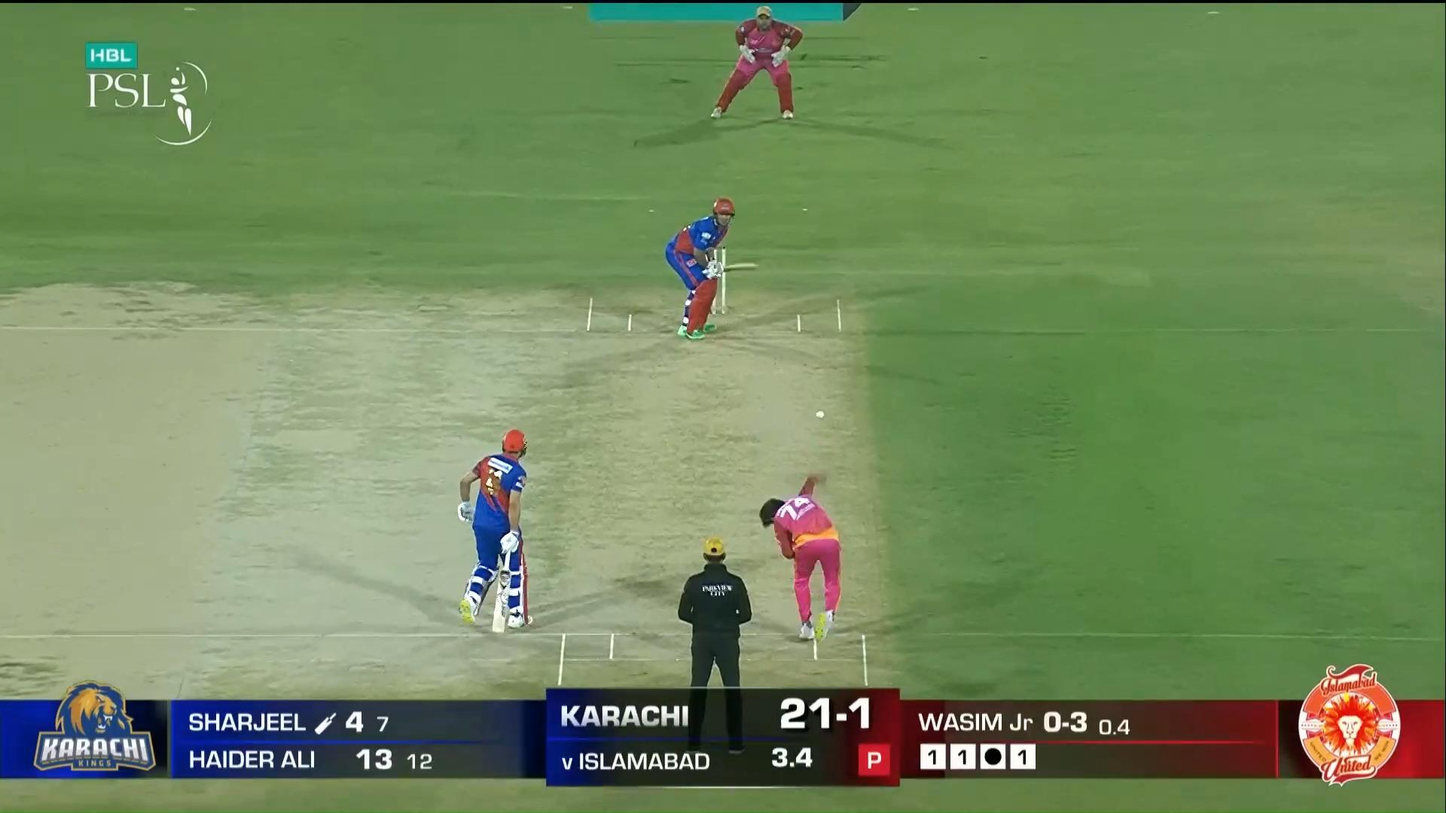batsman: (664, 195, 735, 340)
